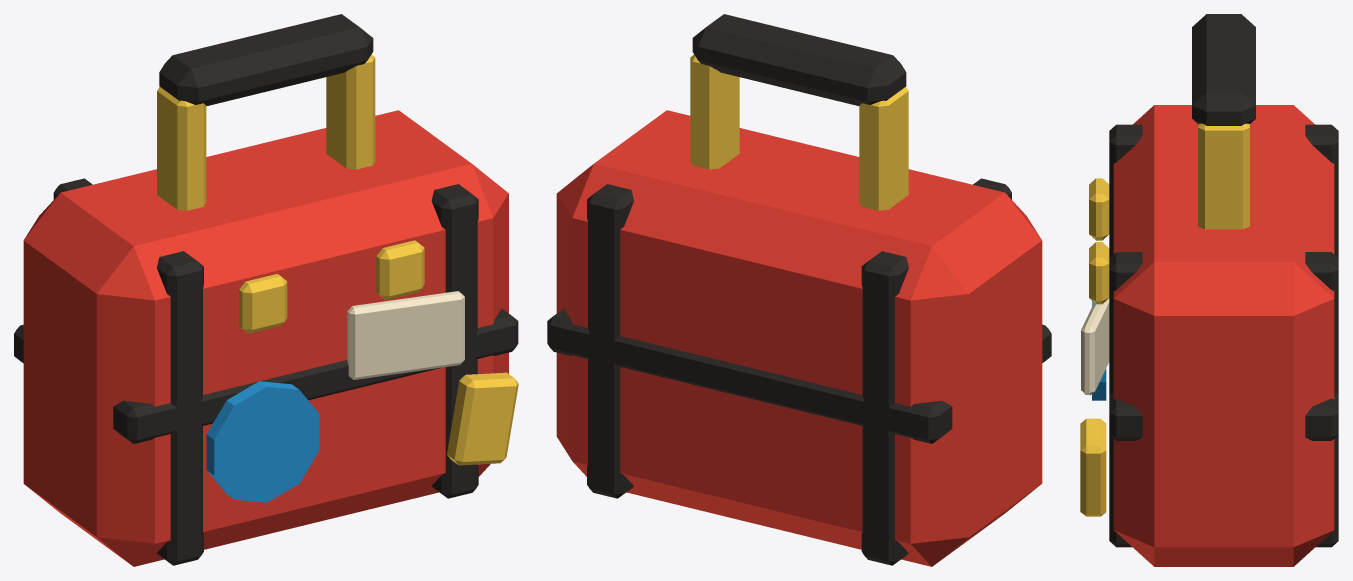
Rendered from tourists.glb.
3 renders of one model, left to right at view 1: azimuth 30°, elevation 25°; view 2: azimuth 150°, elevation 25°; view 3: azimuth 270°, elevation 25°, orthographic. The views are drawn at different scales.
Visible parts, largest first — view 1: tourists-chunky-suitcase, tourists-handle-grip, tourists-round-blue-sticker, tourists-left-binding, tourists-cream-sticker, tourists-horizontal-binding, tourists-right-binding, tourists-handle-left, tourists-gold-baggage-tag, tourists-handle-right, tourists-latch-0, tourists-latch-1; view 2: tourists-chunky-suitcase, tourists-horizontal-binding, tourists-handle-grip, tourists-left-binding, tourists-right-binding, tourists-handle-left, tourists-handle-right; view 3: tourists-chunky-suitcase, tourists-handle-grip, tourists-handle-right, tourists-right-binding, tourists-left-binding, tourists-gold-baggage-tag, tourists-horizontal-binding, tourists-cream-sticker, tourists-latch-1, tourists-latch-0.
Part boxes in pixels (x1,y1,x2,y2): tourists-chunky-suitcase: [23, 110, 508, 566]; tourists-handle-grip: [159, 14, 373, 106]; tourists-round-blue-sticker: [206, 381, 319, 502]; tourists-left-binding: [53, 178, 203, 565]; tourists-cream-sticker: [347, 291, 464, 379]; tourists-horizontal-binding: [14, 308, 518, 443]; tourists-right-binding: [431, 184, 478, 498]; tourists-handle-left: [157, 87, 206, 210]; tourists-gold-baggage-tag: [447, 372, 518, 465]; tourists-handle-right: [326, 54, 375, 169]; tourists-latch-0: [239, 274, 287, 333]; tourists-latch-1: [376, 240, 424, 300]; tourists-chunky-suitcase: [556, 110, 1042, 566]; tourists-horizontal-binding: [547, 308, 1051, 443]; tourists-handle-grip: [692, 14, 906, 105]; tourists-left-binding: [861, 178, 1011, 565]; tourists-right-binding: [587, 184, 633, 498]; tourists-handle-left: [859, 87, 908, 210]; tourists-handle-right: [690, 54, 739, 169]; tourists-chunky-suitcase: [1113, 105, 1334, 566]; tourists-handle-grip: [1192, 14, 1255, 125]; tourists-handle-right: [1198, 123, 1249, 229]; tourists-right-binding: [1109, 252, 1338, 547]; tourists-left-binding: [1109, 124, 1338, 257]; tourists-gold-baggage-tag: [1080, 418, 1106, 516]; tourists-horizontal-binding: [1109, 392, 1338, 440]; tourists-cream-sticker: [1081, 298, 1109, 395]; tourists-latch-1: [1089, 242, 1109, 304]; tourists-latch-0: [1089, 178, 1109, 240].
Bounding box in the file's own units: 0.9426 × 1 × 0.5378.
